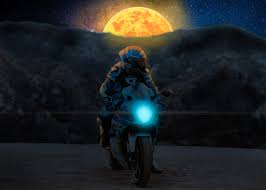motorcycle: (95, 67, 174, 190)
